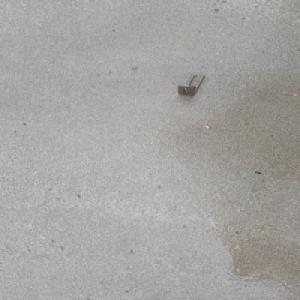MetalPart: (176, 72, 206, 95)
